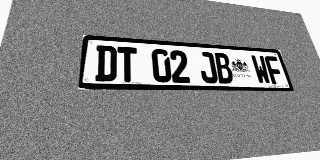0: (151, 49, 172, 83)
2: (169, 50, 190, 83)
B: (213, 53, 235, 84)
D: (95, 45, 117, 82)
F: (264, 56, 285, 84)
J: (197, 52, 219, 83)
T: (117, 46, 138, 82)
W: (250, 55, 272, 84)
